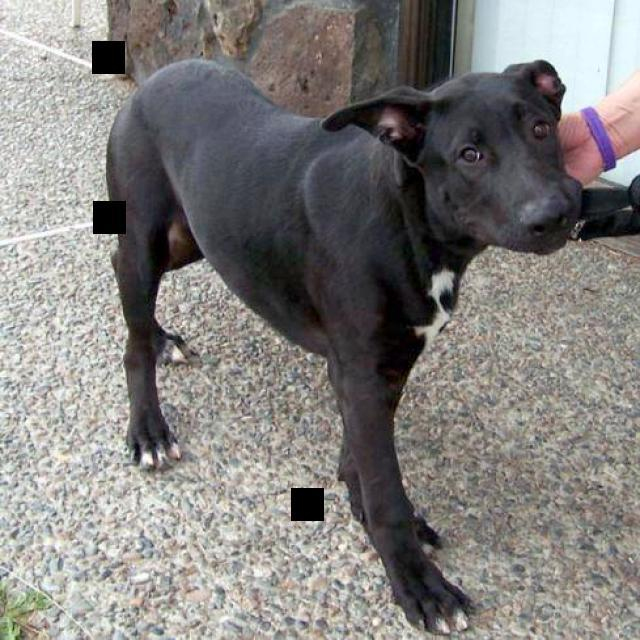adult_dog: (100, 53, 584, 630)
